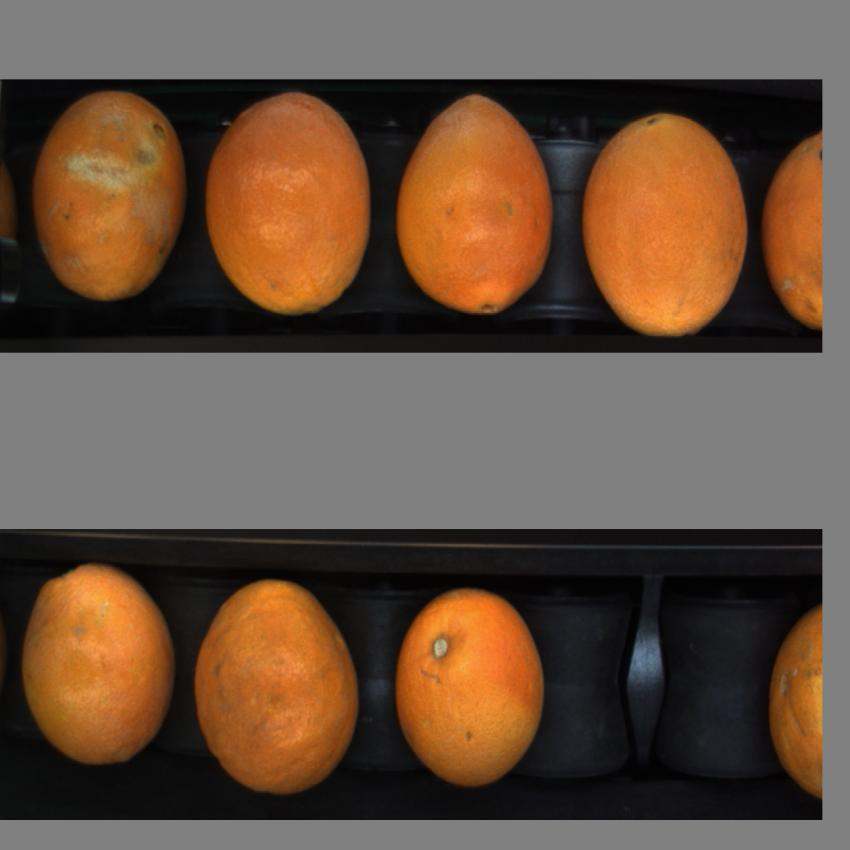Buen estado: (192, 569, 369, 804), (582, 108, 751, 343), (393, 87, 556, 327), (205, 91, 372, 315), (396, 570, 556, 795), (23, 559, 177, 775), (760, 117, 824, 331), (762, 597, 822, 813)
Mal estado: (32, 90, 184, 311)
